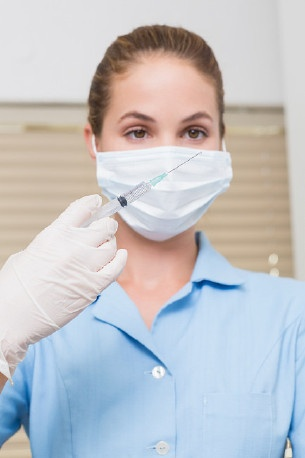Mask: (90, 98, 234, 241)
